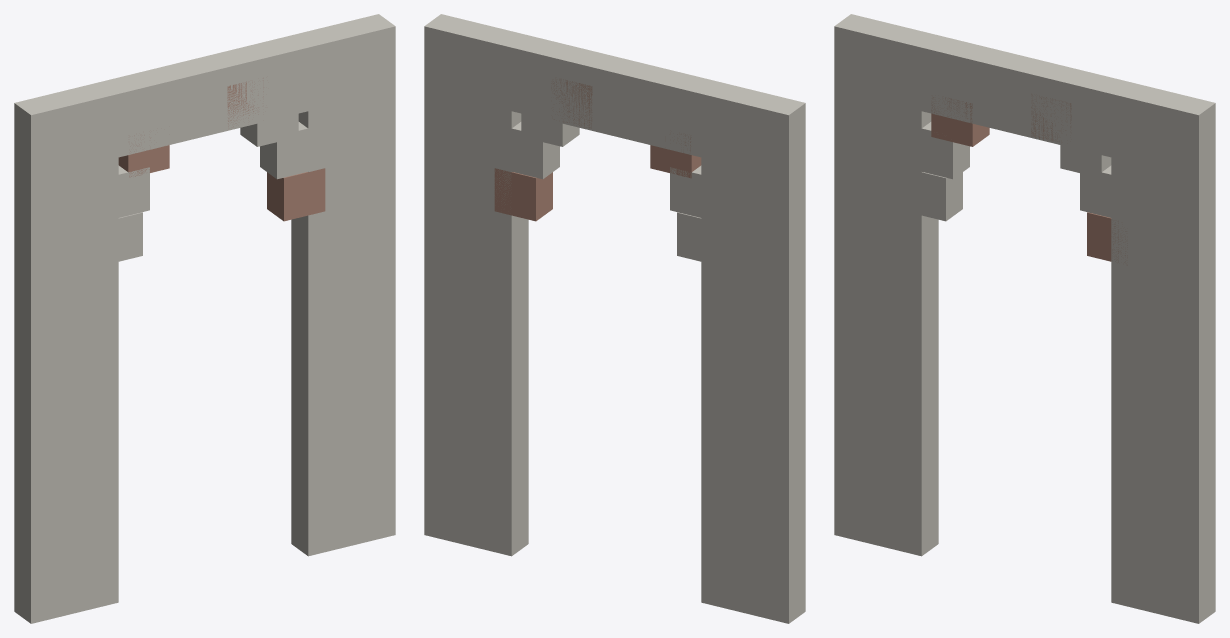
File: iz3_neighborhood_kemer_sıvalı.glb
3 renders of one model, left to right at view 1: azimuth 30°, elevation 25°; view 2: azimuth 150°, elevation 25°; view 3: azimuth 330°, elevation 25°, orthographic.
Parts seen in each view (by area): view 1: pier_l, pier_r, spandrel, voussoir_00, voussoir_01, voussoir_07, voussoir_08, voussoir_04, voussoir_02, voussoir_05, voussoir_06, voussoir_03; view 2: pier_l, pier_r, spandrel, voussoir_00, voussoir_01, voussoir_07, voussoir_02, voussoir_08, voussoir_06, voussoir_04, voussoir_03; view 3: pier_r, pier_l, spandrel, voussoir_08, voussoir_07, voussoir_01, voussoir_06, voussoir_00, voussoir_02, voussoir_04, voussoir_05.
Boxes of the visible parts, x1,y1,x2,y2 form: pier_l: (14,81,118,623); pier_r: (291,14,395,556); spandrel: (102,34,313,158); voussoir_00: (267,168,325,221); voussoir_01: (260,122,318,179); voussoir_07: (108,165,149,219); voussoir_08: (101,212,142,265); voussoir_04: (192,76,233,128); voussoir_02: (240,103,298,146); voussoir_05: (158,94,199,144); voussoir_06: (118,135,169,177); voussoir_03: (227,78,263,126); pier_l: (701,81,805,623); pier_r: (424,14,528,556); spandrel: (506,34,717,158); voussoir_00: (494,168,552,221); voussoir_01: (501,122,559,179); voussoir_07: (670,165,709,219); voussoir_02: (521,97,579,146); voussoir_08: (677,212,717,265); voussoir_06: (650,134,701,178); voussoir_04: (586,76,626,128); voussoir_03: (551,79,592,128); pier_r: (1111,81,1215,623); pier_l: (834,14,938,556); spandrel: (916,34,1127,158); voussoir_08: (904,168,962,221); voussoir_07: (911,122,969,179); voussoir_01: (1080,165,1119,219); voussoir_06: (931,97,989,146); voussoir_00: (1087,212,1127,265); voussoir_02: (1060,134,1111,177); voussoir_04: (996,76,1036,127); voussoir_05: (961,79,1002,128).
Bounding box in the file's own units: 3 × 4 × 0.24.
